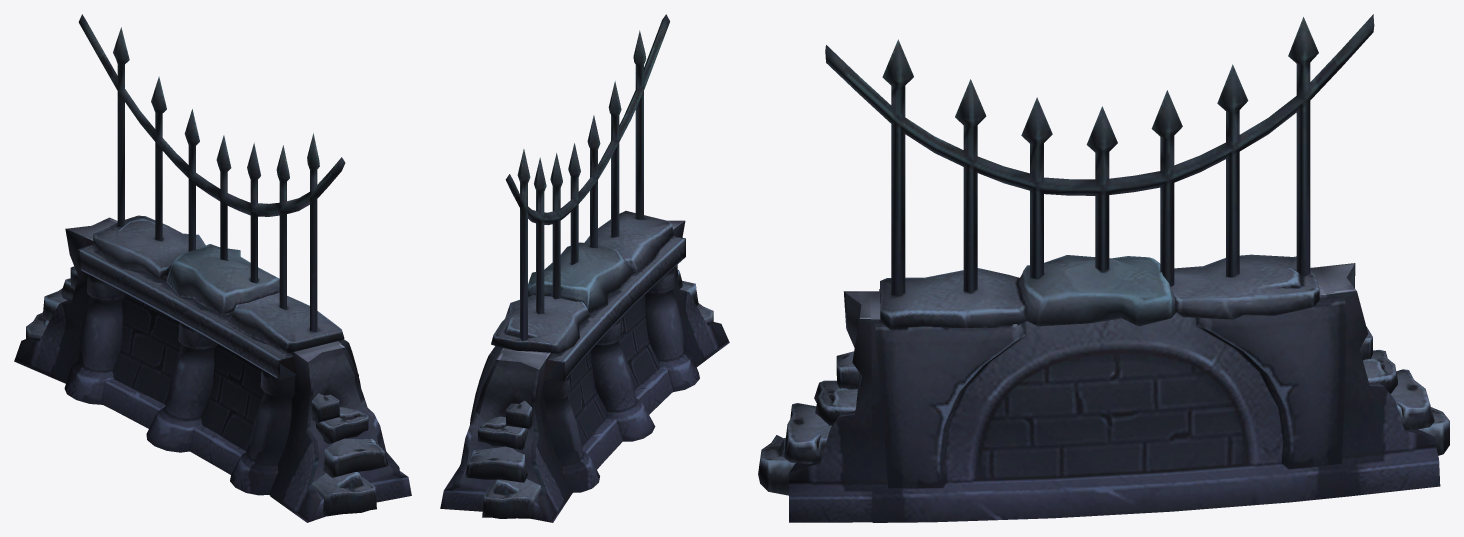
Rendered from Wall_04.obj.
3 views of the same model, side by side, from view 1: azimuth 30°, elevation 25°; view 2: azimuth 150°, elevation 25°; view 3: azimuth 270°, elevation 25° (orthographic). The views are drawn at different scales.
Parts seen in each view (by area): view 1: Storm_Building_WinterCrest_Wall_0; view 2: Storm_Building_WinterCrest_Wall_0; view 3: Storm_Building_WinterCrest_Wall_0.
Boxes of the visible parts, bbox=[...] form: Storm_Building_WinterCrest_Wall_0: bbox=[14, 14, 411, 522]; Storm_Building_WinterCrest_Wall_0: bbox=[440, 14, 729, 522]; Storm_Building_WinterCrest_Wall_0: bbox=[758, 14, 1449, 522].
Bounding box in the file's own units: 275 × 574 × 791.
1 material, 1 textured.
